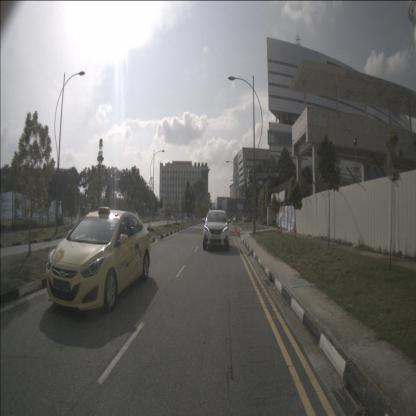cone: (292, 221, 296, 233), (235, 227, 239, 238), (237, 225, 240, 238), (235, 225, 238, 236), (280, 223, 283, 233), (276, 223, 279, 233), (252, 224, 254, 234)
